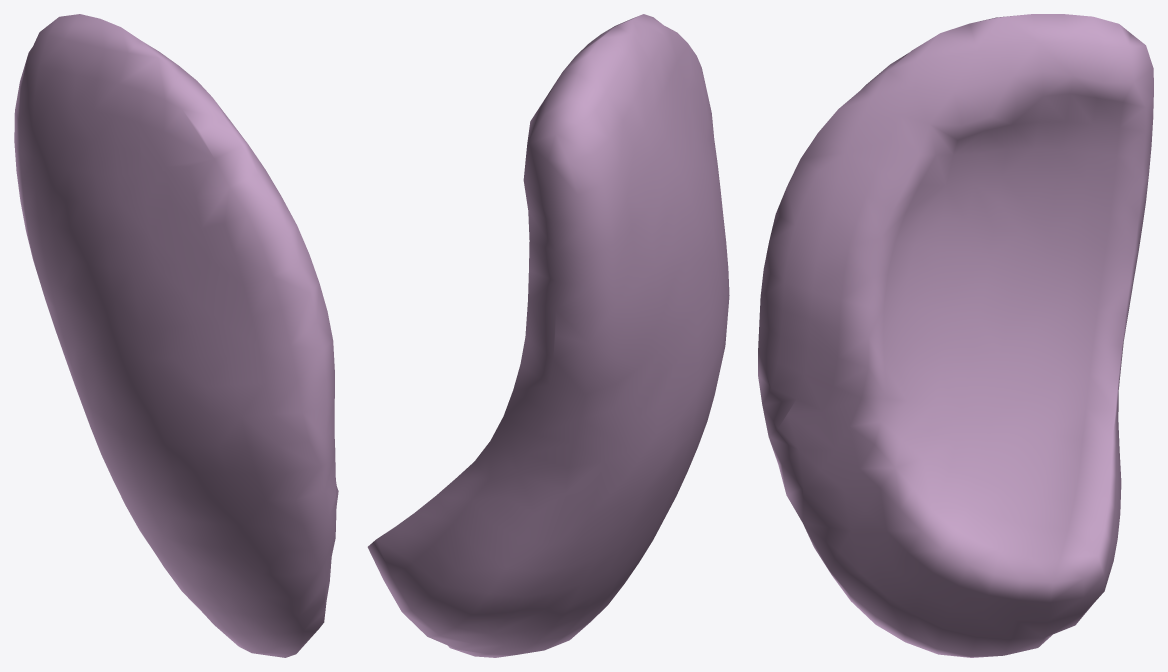
3 renders of one model, left to right at view 1: azimuth 30°, elevation 25°; view 2: azimuth 150°, elevation 25°; view 3: azimuth 270°, elevation 25°, orthographic. The views are drawn at different scales.
Parts seen in each view (by area): view 1: 右侧壳; view 2: 右侧壳; view 3: 右侧壳.
Part boxes in pixels (left/top/right/bottom): 右侧壳: left=14, top=14, right=338, bottom=657; 右侧壳: left=367, top=14, right=729, bottom=657; 右侧壳: left=758, top=14, right=1153, bottom=657.
Bounding box in the file's own units: 0.0261 × 0.0614 × 0.0371.
